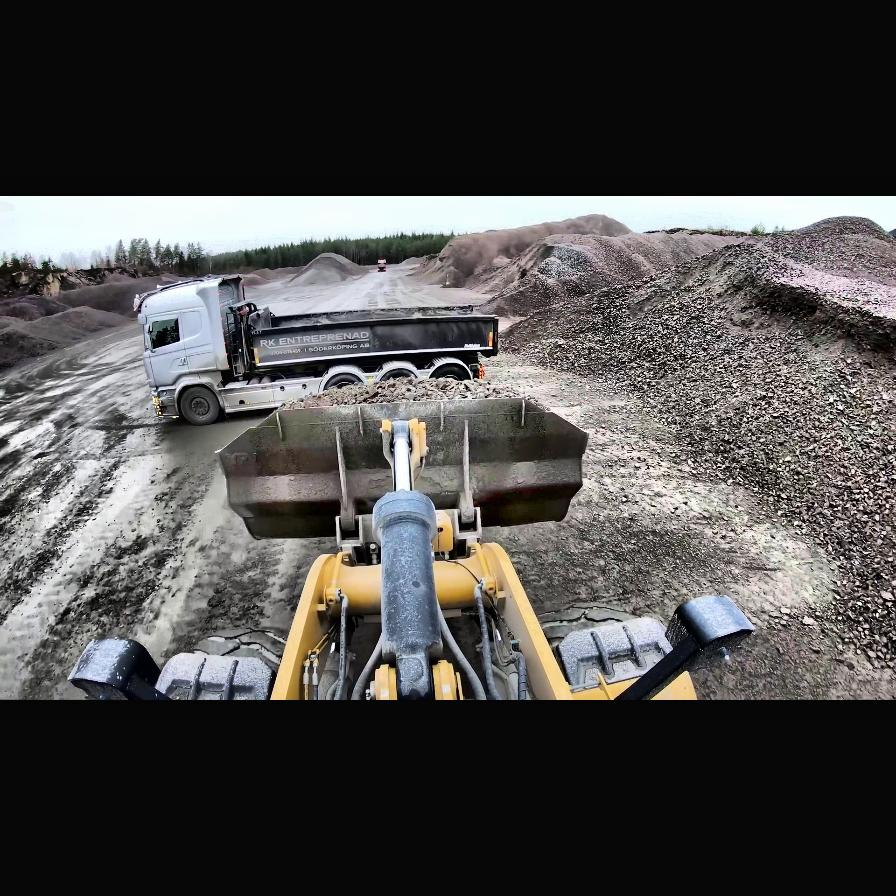anchor: (380, 417, 428, 492)
pile of gravel: (524, 214, 896, 690), (448, 212, 840, 322), (0, 266, 176, 378), (430, 216, 608, 298), (1, 323, 67, 374), (285, 252, 367, 286)
